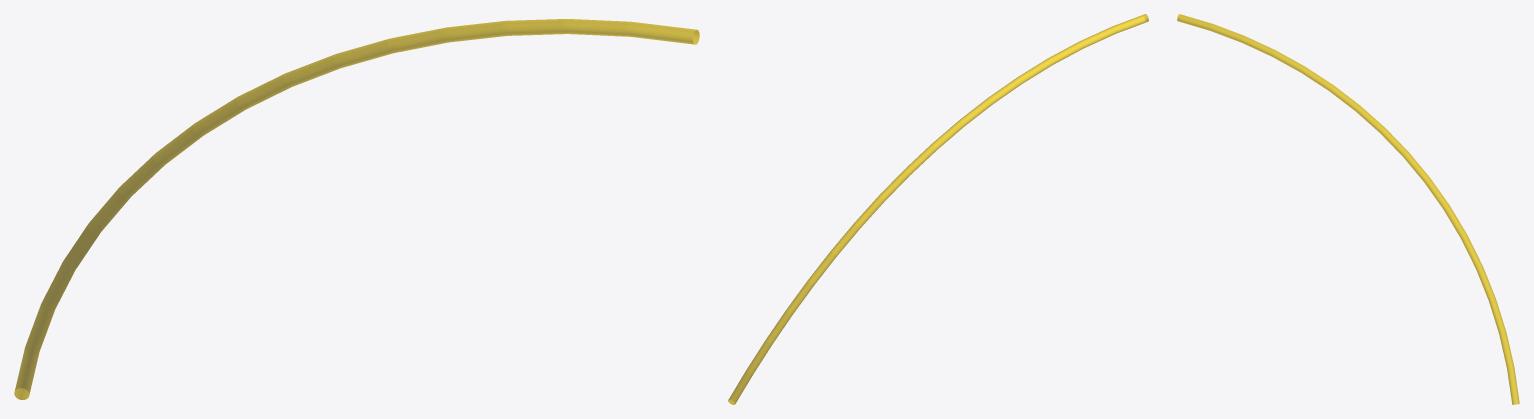
File: Event_84804159_track_24.fbx
The picture shows the model from 3 angles, left to right: view 1: azimuth 90°, elevation 25°; view 2: azimuth 150°, elevation 25°; view 3: azimuth 270°, elevation 25°; orthographic projection. The views are drawn at different scales.
Parts seen in each view (by area): view 1: Model; view 2: Model; view 3: Model.
Part boxes in pixels (bbox=[...]): Model: bbox=[14, 19, 699, 399]; Model: bbox=[728, 14, 1148, 404]; Model: bbox=[1177, 14, 1519, 404].
Bounding box in the file's own units: 1.33 × 1.67 × 1.8.
